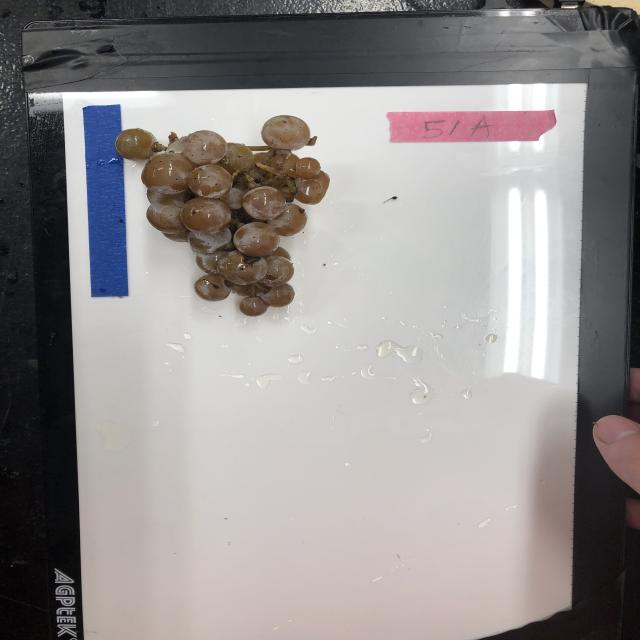grape_cluster: (119, 114, 333, 316)
index: (385, 109, 563, 143)
measure_label: (82, 104, 131, 296)
